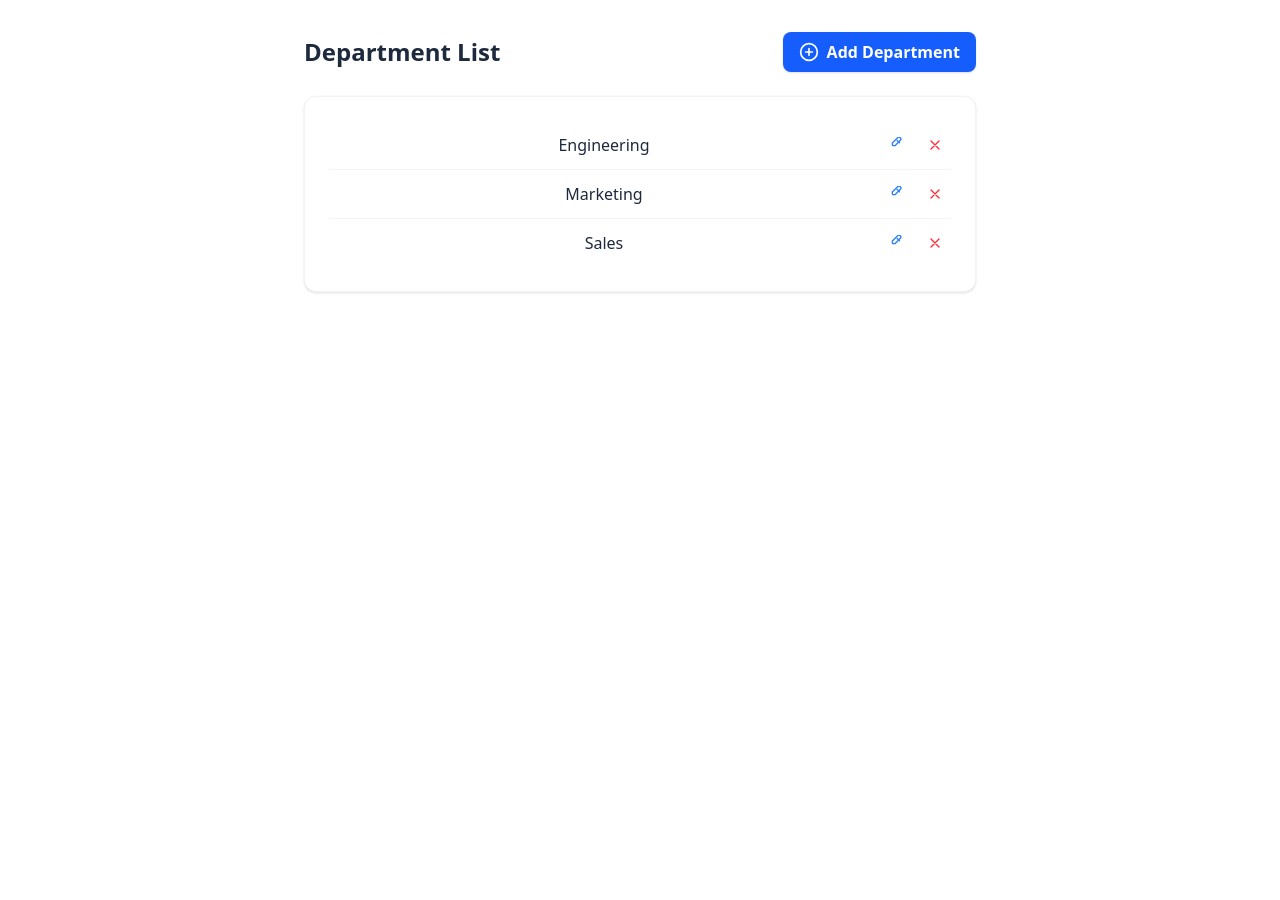
DepartmentSelector › should open edit modal when edit button is clicked
Click the 2nd button at [895, 145], box [879,133,911,157]
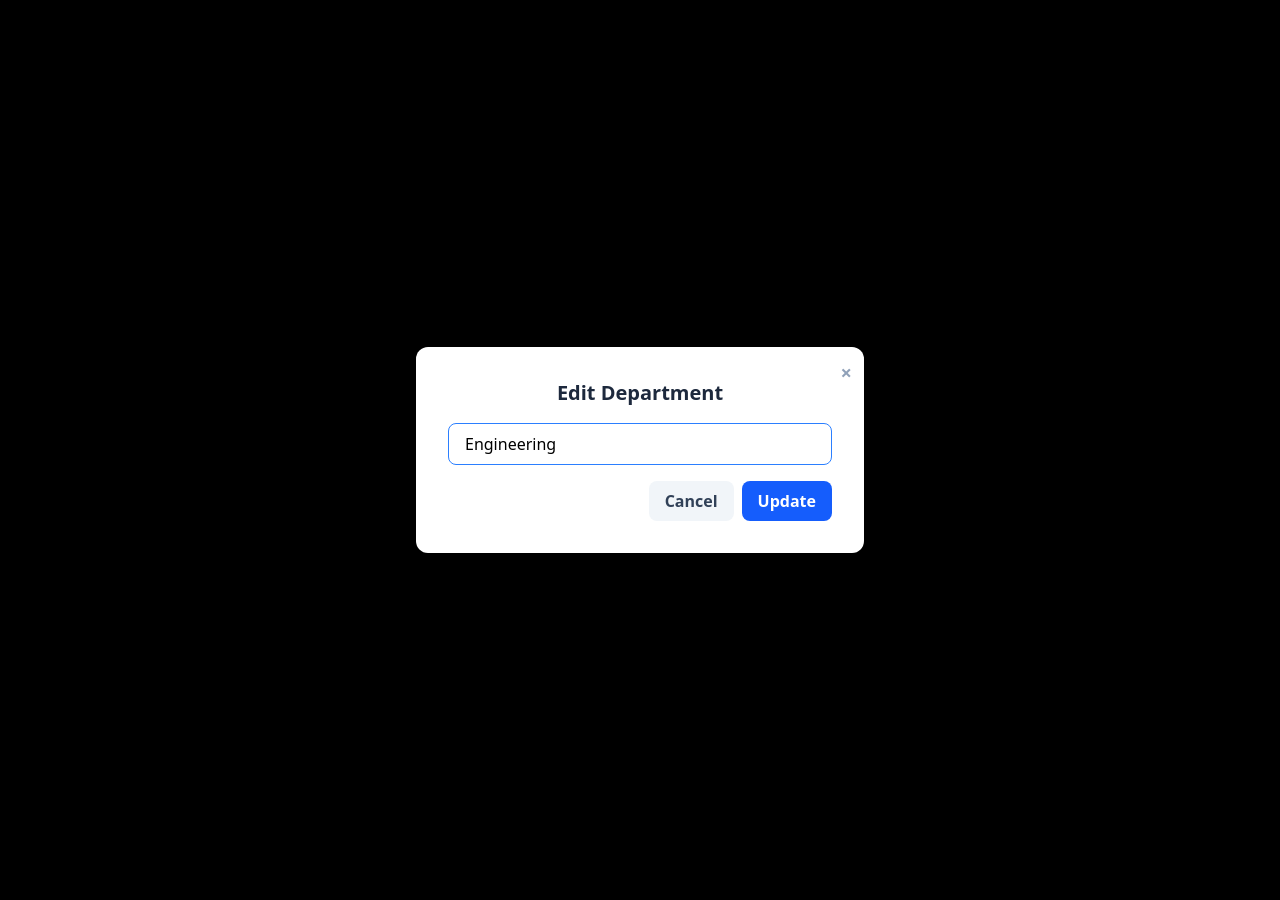
Result: the heading "Edit Department" is shown at [557,379,723,406]
Result: the field showing "Engineering" is shown at [448,423,832,465]
